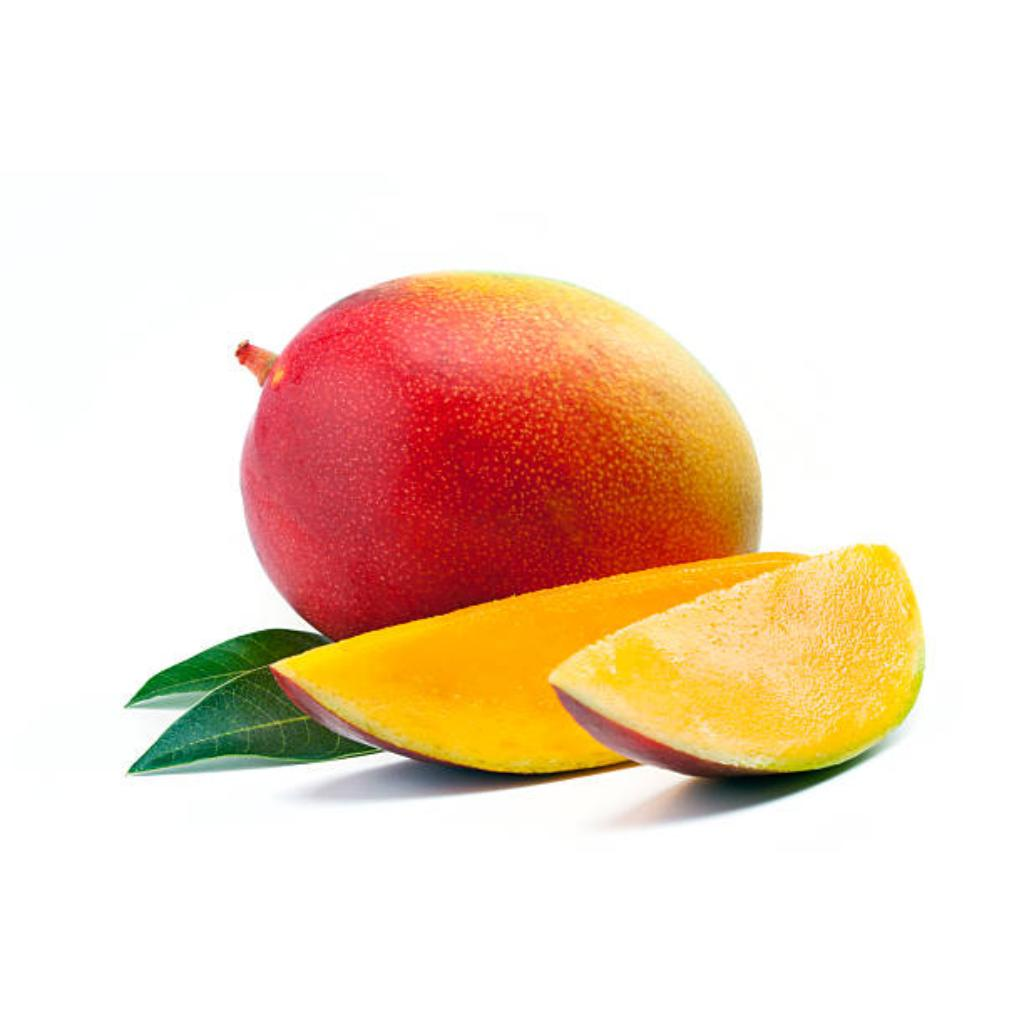mango: (242, 273, 760, 640)
